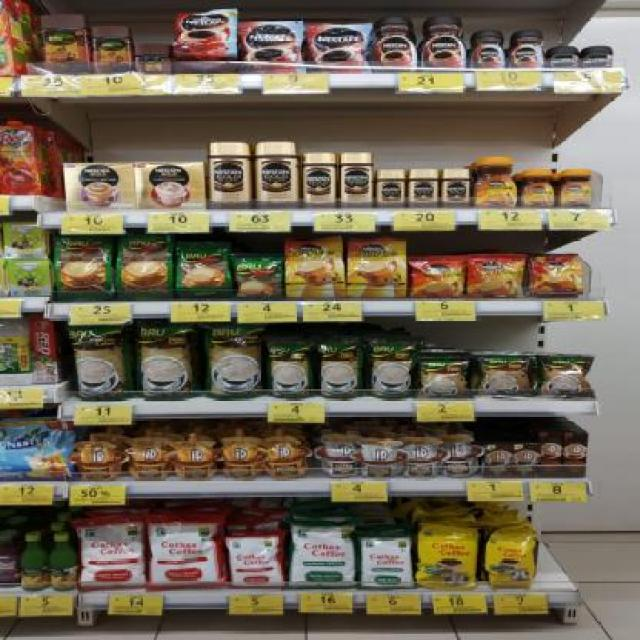Coffee: (284, 238, 342, 297), (178, 12, 234, 73), (348, 238, 403, 298), (243, 22, 300, 73), (309, 25, 368, 72), (256, 142, 296, 210), (210, 142, 248, 209), (373, 17, 416, 72), (467, 254, 522, 297), (422, 16, 463, 73), (410, 256, 465, 298), (477, 156, 515, 209), (341, 153, 373, 207), (305, 153, 335, 210), (560, 168, 594, 207), (522, 169, 556, 206), (511, 30, 543, 68), (472, 30, 502, 68), (378, 168, 404, 207), (412, 169, 438, 206), (443, 169, 469, 206), (548, 46, 580, 70), (584, 46, 616, 69)
